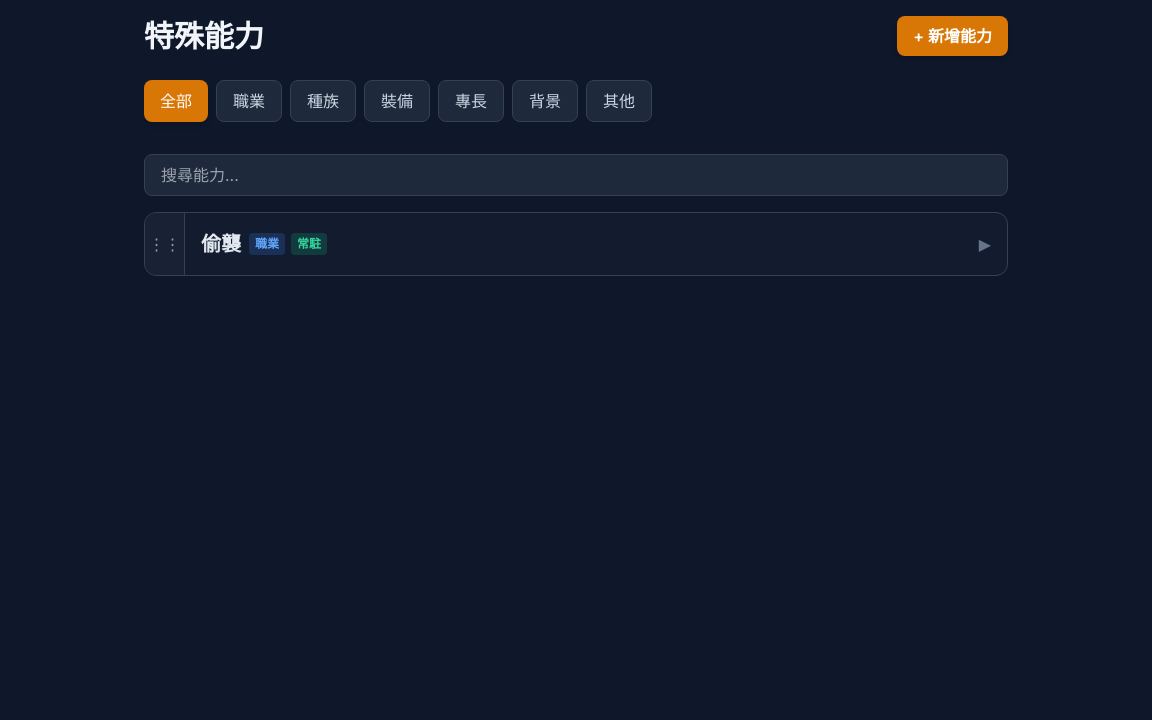
Test: AbilitiesPage › 有能力時點能力卡會打開詳情 modal（編輯、移除）
Click the heading "偷襲" at [221, 244], box [201,229,241,259]
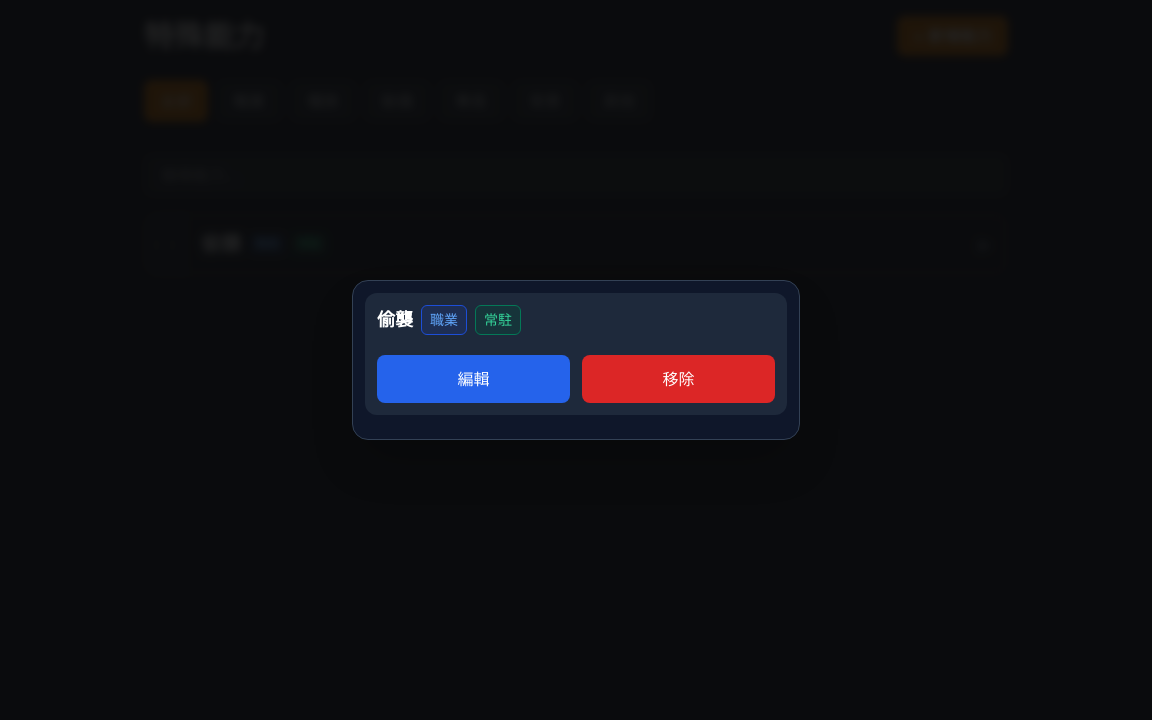
Expected: the button "編輯" is shown, [377,355,570,403]
Expected: the button "移除" is shown, [582,355,775,403]
